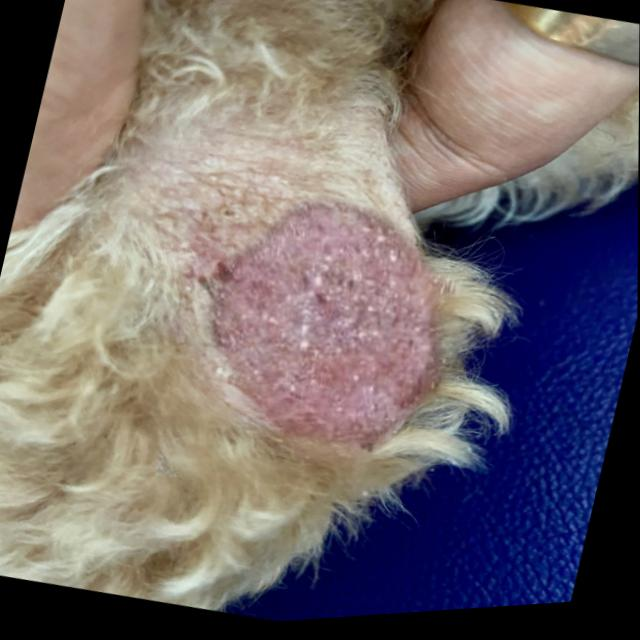ringworm: (131, 162, 490, 520)
